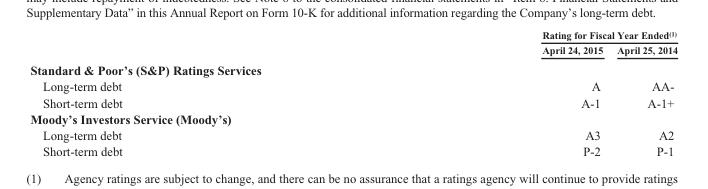table: (29, 28, 677, 157)
table column: (29, 28, 331, 157), (331, 28, 609, 157), (609, 28, 677, 157)
table column header: (29, 28, 677, 59)
table projected row header: (29, 59, 677, 78), (29, 110, 677, 126)
table row: (29, 59, 677, 78), (29, 42, 677, 59), (29, 78, 677, 94), (29, 94, 677, 110), (29, 110, 677, 126), (29, 126, 677, 142), (29, 142, 677, 157), (29, 28, 677, 42)
table spanning cell: (331, 28, 677, 42)
